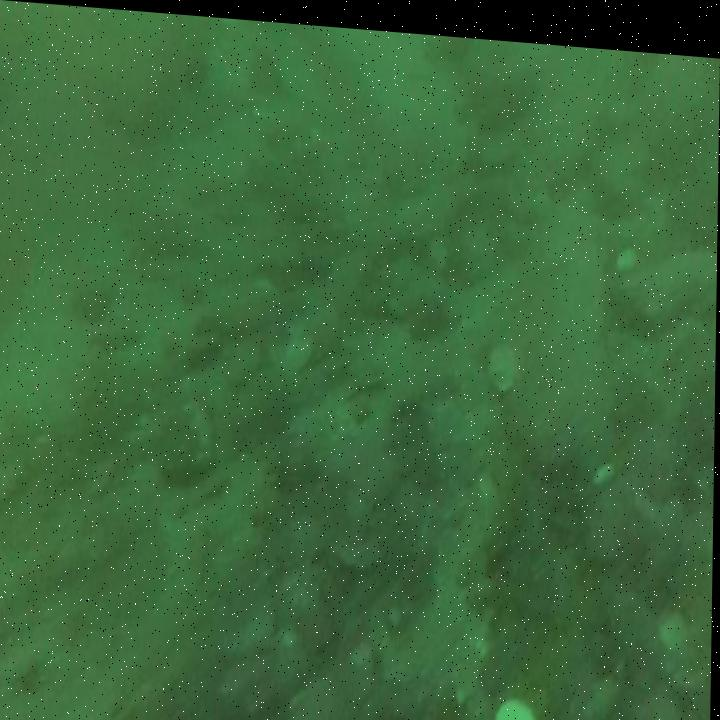holothurian: (513, 428, 581, 473)
scallop: (487, 325, 523, 398), (495, 674, 541, 720)
